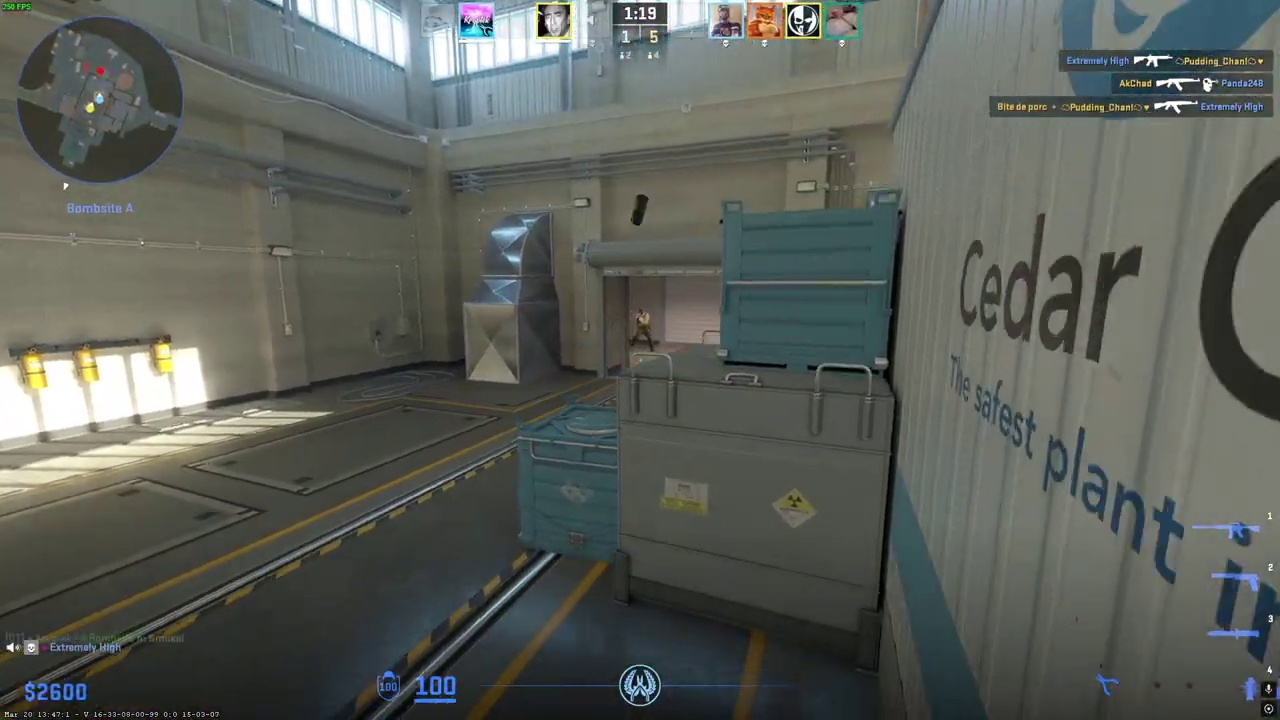Terrorist: (630, 307, 654, 351)
